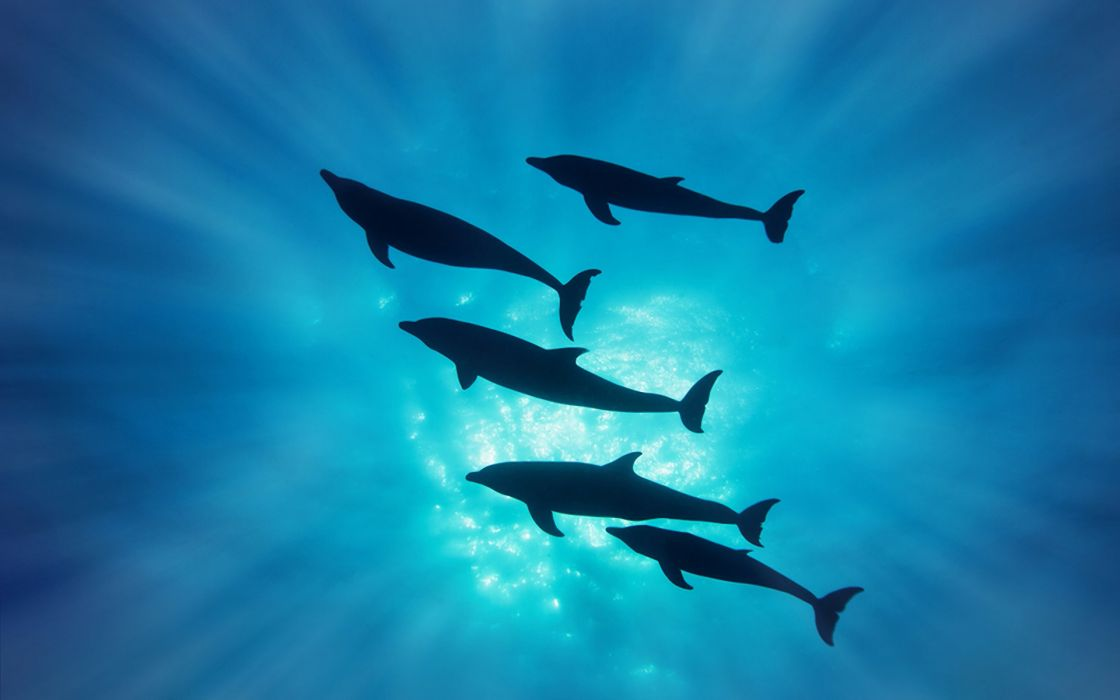dolphin: (304, 153, 620, 341), (383, 307, 752, 448), (447, 441, 790, 557), (594, 522, 874, 652), (510, 138, 826, 247)
